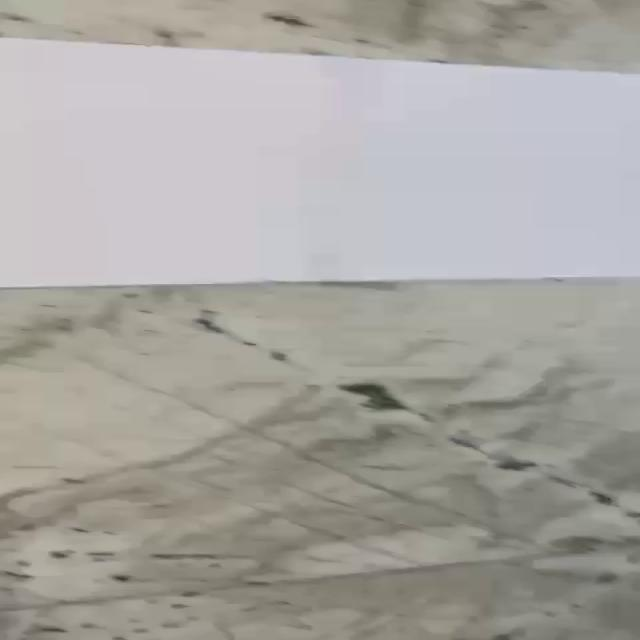road: (0, 36, 640, 288)
